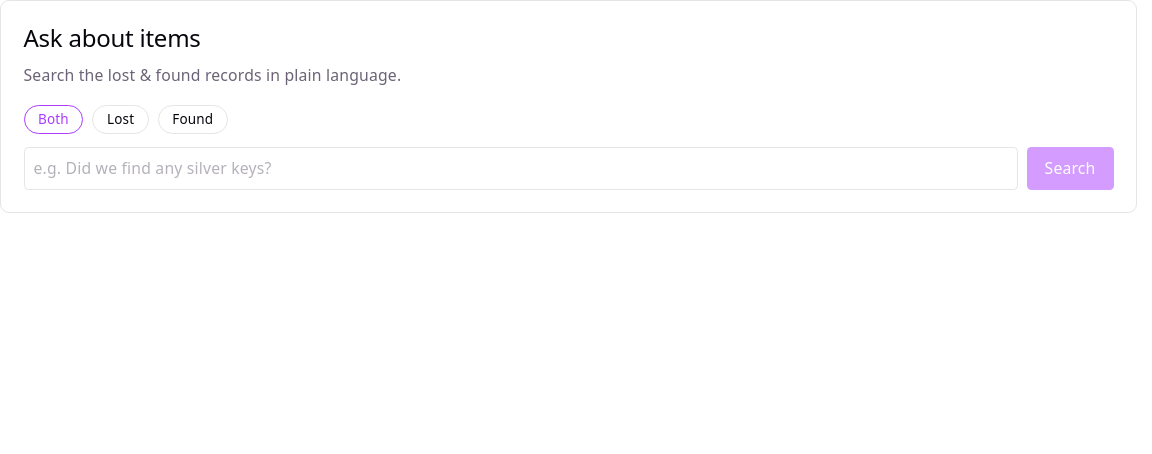
Scenario: <ItemSearchPanel /> › renders a grounded answer and shows only cited result cards
The width and height of the screenshot is (1152, 454).
Type "black wallet" into the field named "search query".
click(521, 169); type("black wallet")  # box [24, 147, 1018, 190]
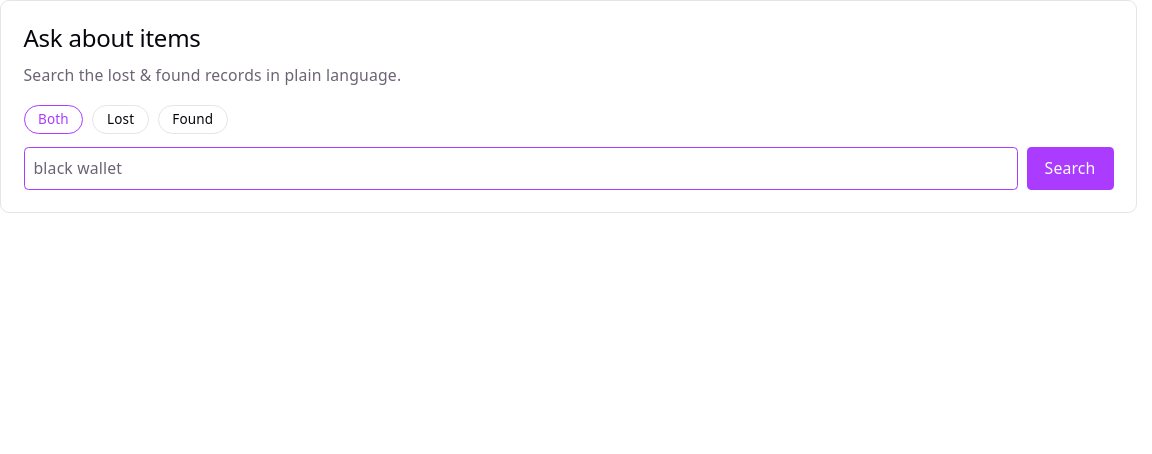
Click the button "Search".
click(1070, 169)  # box [1027, 147, 1114, 190]
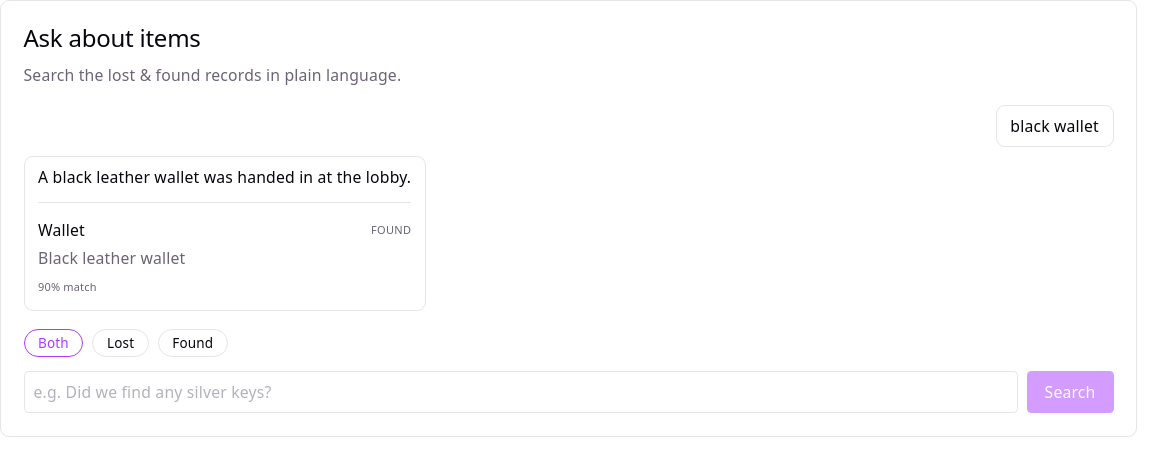
Now the text "A black leather wallet was handed in at the lobby." is shown, box [38, 166, 411, 189]
Now the number of elements with test id "search-result-card" is 1, box [38, 217, 411, 300]
Now the text "Wallet" is shown, box [38, 219, 85, 241]
